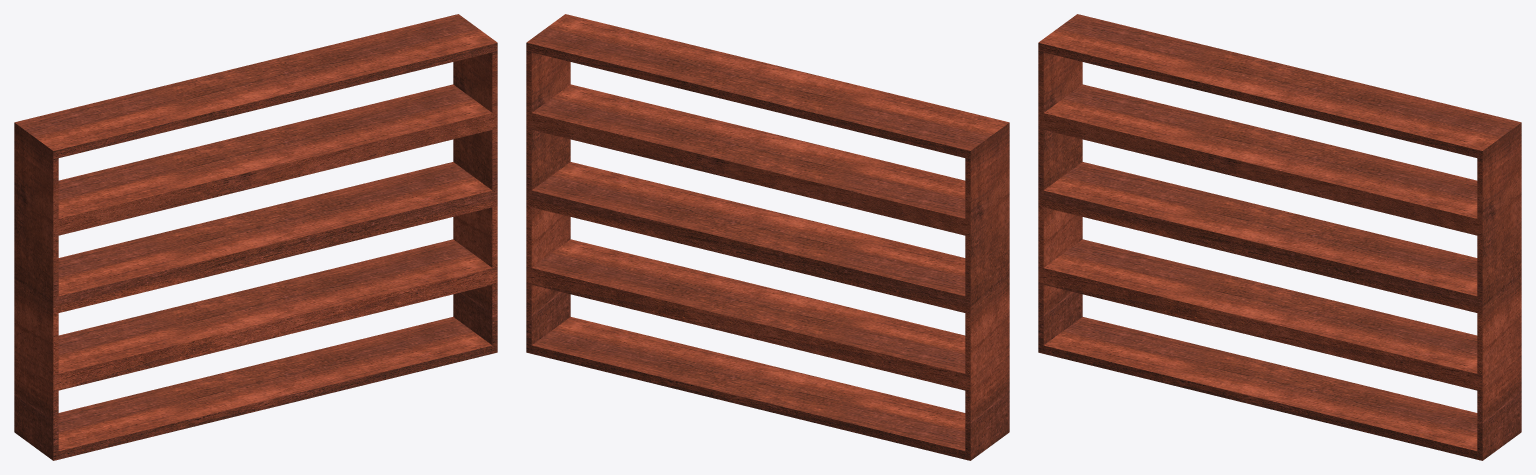
The model's file is konyvespolc.FBX.
The picture shows the model from 3 angles, left to right: view 1: azimuth 30°, elevation 25°; view 2: azimuth 150°, elevation 25°; view 3: azimuth 330°, elevation 25°; orthographic projection.
Parts seen in each view (by area): view 1: Box001; view 2: Box001; view 3: Box001.
Part boxes in pixels (x1,y1,x2,y2): Box001: (14, 14, 497, 460); Box001: (526, 14, 1009, 460); Box001: (1038, 14, 1521, 460).
Size of the model in its own units: 92.04 by 61.33 by 14.07.
1 material, 1 textured.
